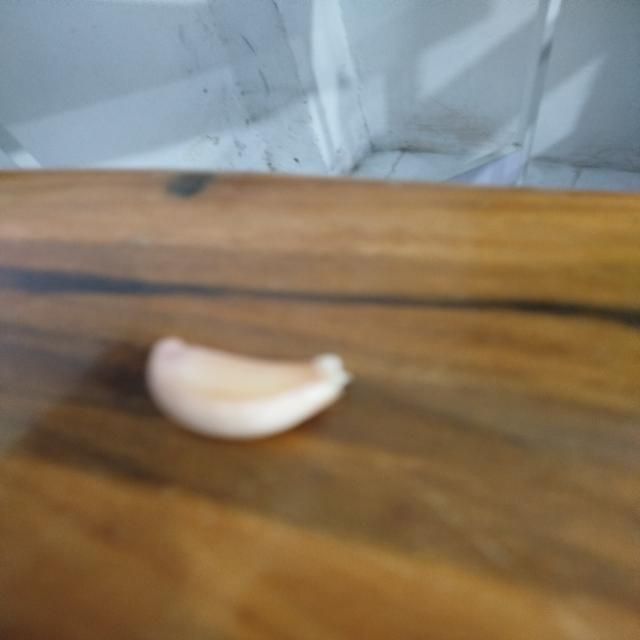garlic: (145, 335, 351, 441)
